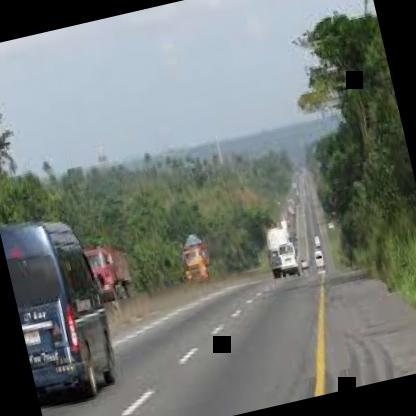car: (0, 181, 135, 416), (76, 203, 148, 315), (265, 234, 304, 286), (307, 244, 331, 279)
